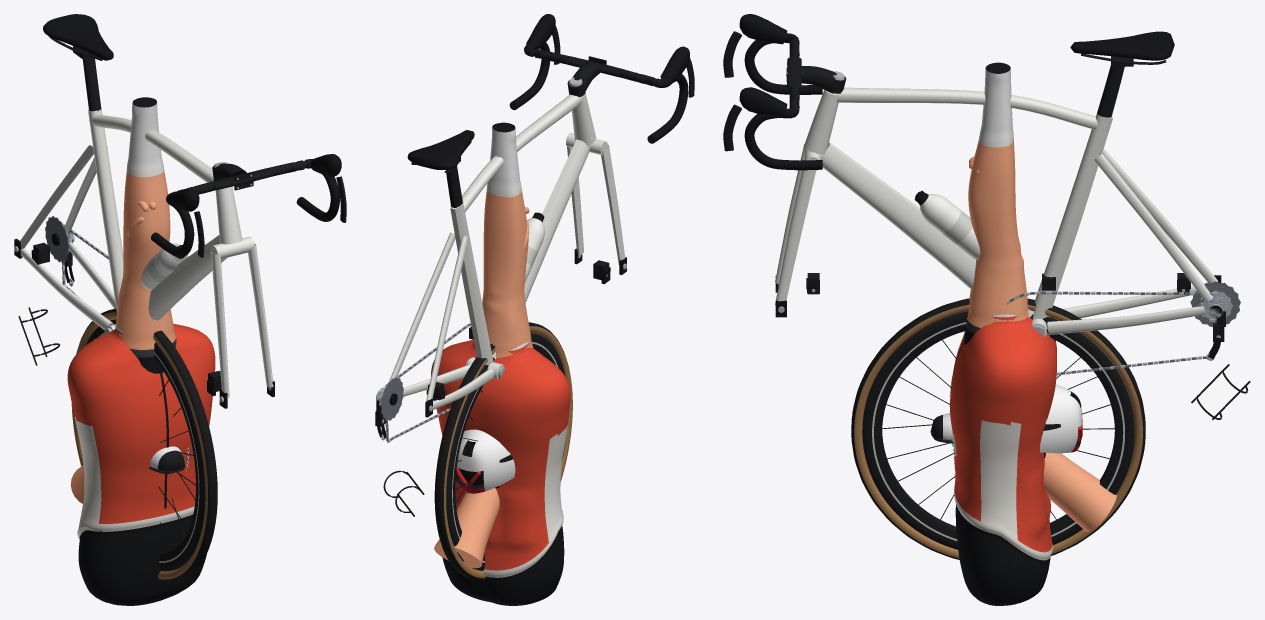
Rendered from rider.glb.
3 renders of one model, left to right at view 1: azimuth 30°, elevation 25°; view 2: azimuth 150°, elevation 25°; view 3: azimuth 270°, elevation 25°, orthographic. The views are drawn at different scales.
Visible parts, largest first — view 1: torso, bike, leg, wheel, shoe; view 2: bike, torso, leg, wheel, head; view 3: bike, torso, wheel, leg, head.
Part boxes in pixels (x1,y1,x2,y2): torso: (67, 323, 215, 605); bike: (14, 14, 346, 408); leg: (116, 97, 176, 373); wheel: (71, 308, 217, 581); shoe: (149, 446, 185, 473); bike: (375, 14, 694, 516); torso: (431, 339, 570, 605); leg: (482, 122, 533, 358); wheel: (434, 322, 572, 580); head: (434, 429, 515, 568); bike: (723, 14, 1250, 419); torso: (949, 314, 1056, 605); wheel: (851, 298, 1145, 559); leg: (964, 62, 1028, 344); head: (1040, 384, 1116, 531).
Bounding box in the file's own units: 0.44 × 1.41 × 1.21.
